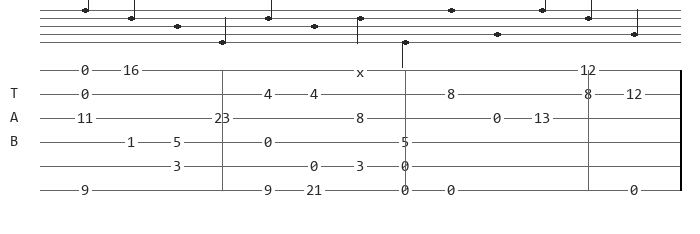0: (81, 63, 93, 77), (81, 87, 93, 101), (264, 135, 276, 149), (310, 159, 322, 173), (401, 183, 413, 197), (401, 159, 413, 173), (447, 183, 459, 197), (493, 111, 505, 125), (630, 183, 642, 197)
1: (127, 135, 139, 149)
11: (77, 111, 97, 125)
12: (580, 63, 600, 77), (626, 87, 646, 101)
13: (534, 111, 554, 125)
16: (123, 63, 143, 77)
21: (306, 183, 326, 197)
23: (214, 111, 234, 125)
3: (173, 159, 185, 173), (356, 159, 368, 173)
4: (264, 87, 276, 101), (310, 87, 322, 101)
5: (173, 135, 185, 149), (401, 135, 413, 149)
8: (356, 111, 368, 125), (447, 87, 459, 101), (584, 87, 596, 101)
9: (81, 183, 93, 197), (264, 183, 276, 197)
x: (356, 65, 368, 76)
